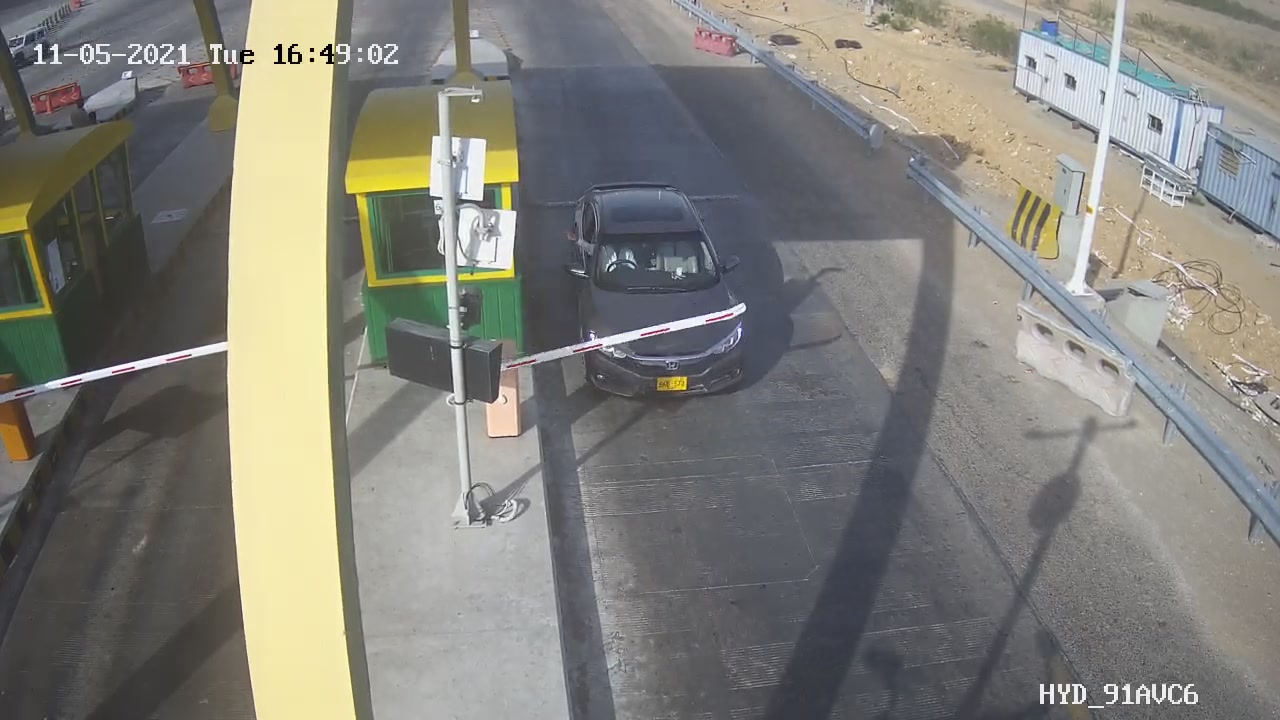F1: (548, 165, 778, 416)
